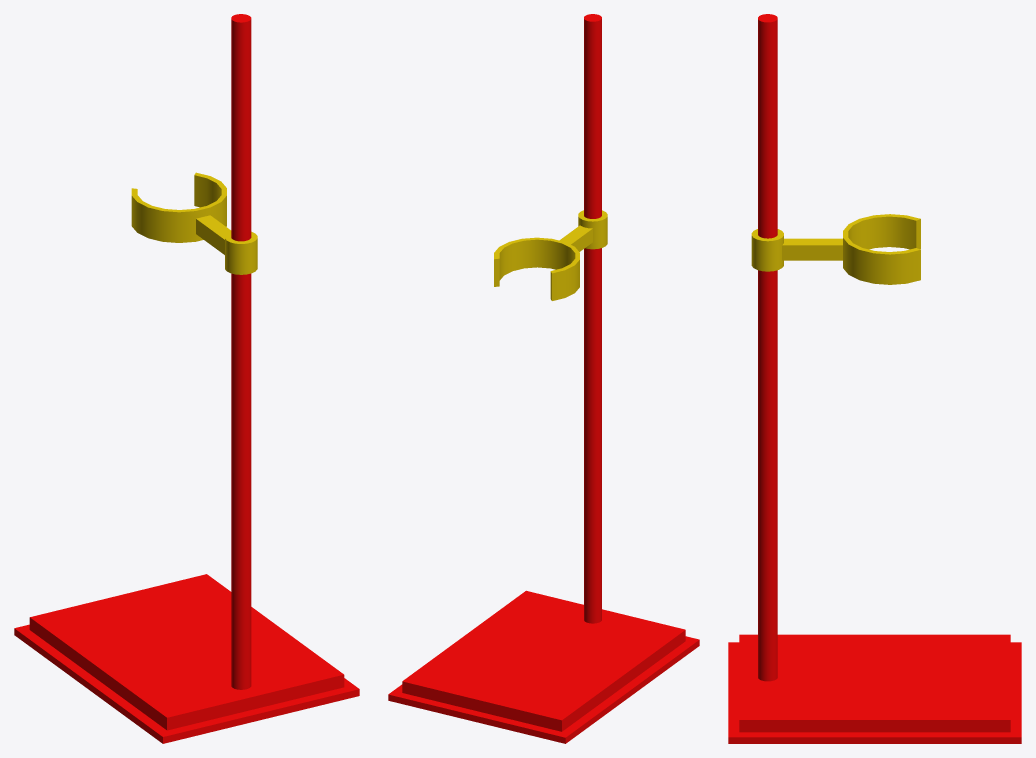
Rendered from LabProp02.fbx.
The picture shows the model from 3 angles, left to right: view 1: azimuth 30°, elevation 25°; view 2: azimuth 150°, elevation 25°; view 3: azimuth 270°, elevation 25°; orthographic projection. The views are drawn at different scales.
Parts seen in each view (by area): view 1: LabProp02; view 2: LabProp02; view 3: LabProp02.
Part boxes in pixels (x1,y1,x2,y2): LabProp02: [14, 14, 359, 743]; LabProp02: [388, 14, 699, 743]; LabProp02: [728, 14, 1021, 743].
Bounding box in the file's own units: 21.88 × 73.02 × 28.65.
